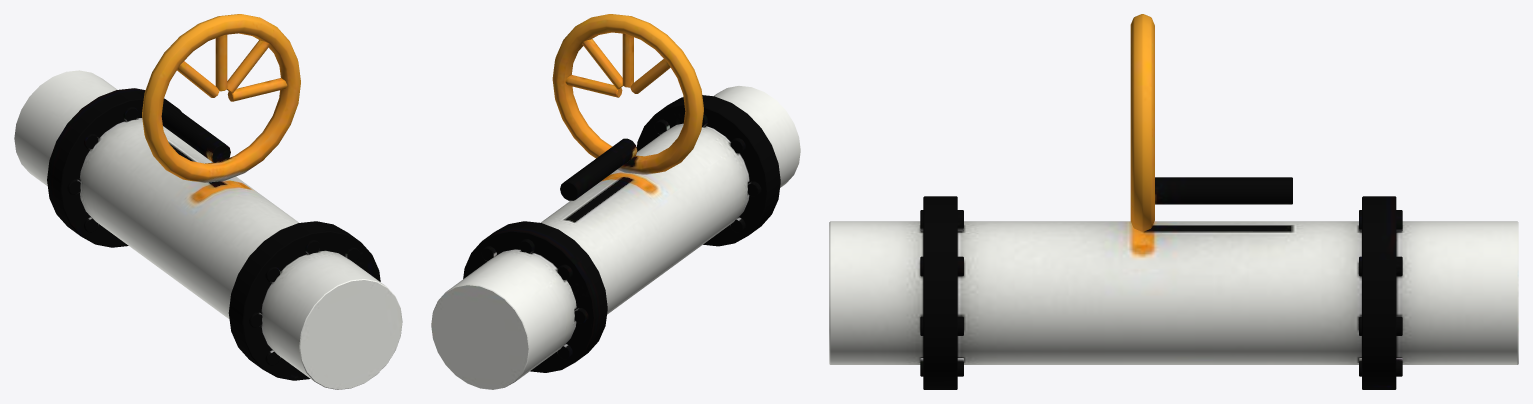
Rendered from LV_pipe_valve.glb.
The picture shows the model from 3 angles, left to right: view 1: azimuth 30°, elevation 25°; view 2: azimuth 150°, elevation 25°; view 3: azimuth 270°, elevation 25°; orthographic projection. The views are drawn at different scales.
Visible parts, largest first — view 1: LV_pipe_valve; view 2: LV_pipe_valve; view 3: LV_pipe_valve.
Boxes of the visible parts, x1,y1,x2,y2 form: LV_pipe_valve: (14,14,402,389); LV_pipe_valve: (431,14,800,389); LV_pipe_valve: (829,14,1518,389).
Size of the model in its own units: 0.3489 by 0.6294 by 1.1.
Materials: 1 (1 with a texture image).
